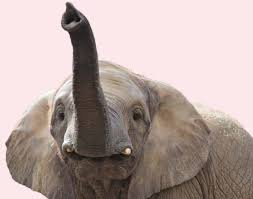Elephant: (3, 4, 223, 198)
